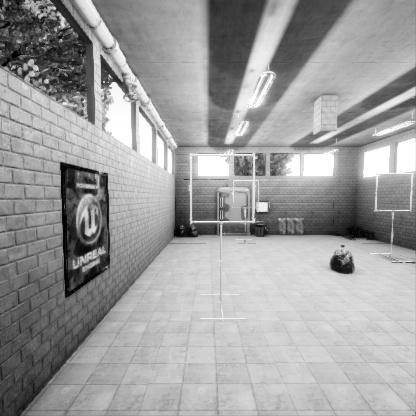gate: (190, 196, 258, 264), (379, 205, 416, 244), (232, 209, 260, 237)
